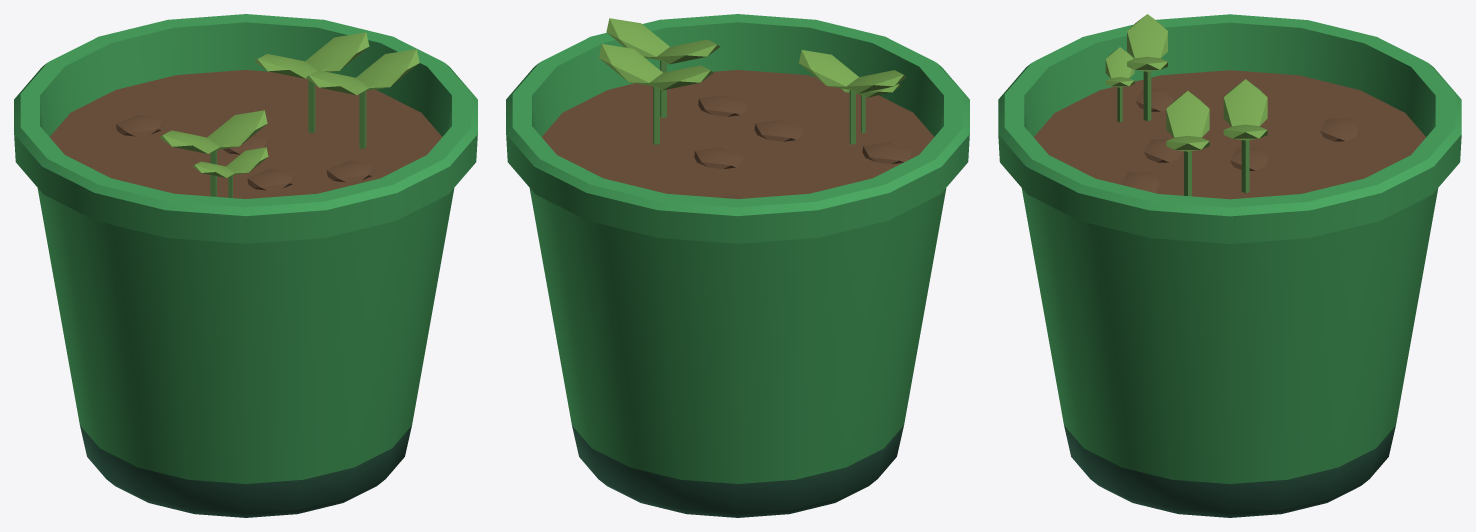
File: SC_Home_Plastic_Pot_M.gltf
3 renders of one model, left to right at view 1: azimuth 30°, elevation 25°; view 2: azimuth 150°, elevation 25°; view 3: azimuth 270°, elevation 25°, orthographic.
Parts seen in each view (by area): view 1: SC_Home_Plastic_Pot_M; view 2: SC_Home_Plastic_Pot_M; view 3: SC_Home_Plastic_Pot_M.
Part boxes in pixels (bbox=[...]): SC_Home_Plastic_Pot_M: bbox=[14, 14, 477, 517]; SC_Home_Plastic_Pot_M: bbox=[506, 14, 969, 517]; SC_Home_Plastic_Pot_M: bbox=[998, 14, 1461, 517].
Bounding box in the file's own units: 0.286 × 0.2577 × 0.2817.
1 material, 1 textured.
